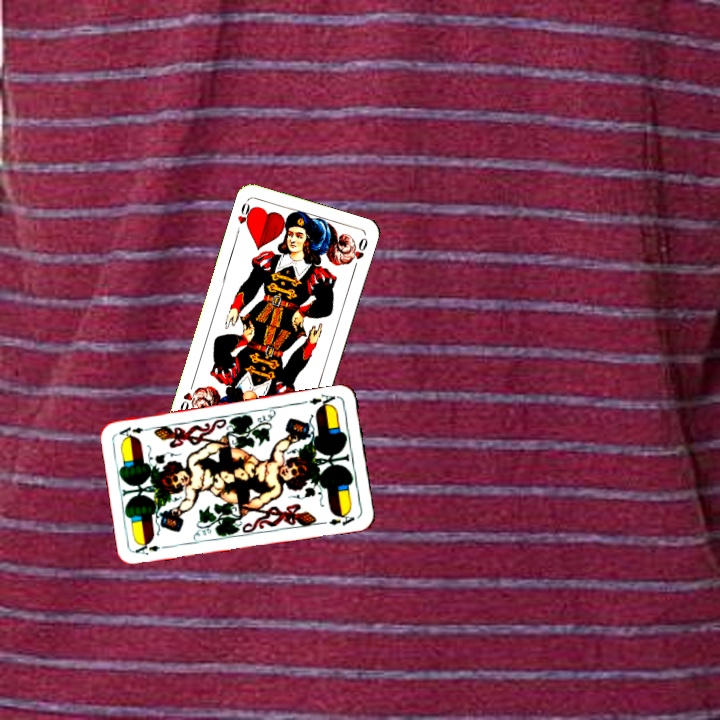EA: (131, 538, 172, 558), (305, 390, 340, 411)
HO: (234, 197, 257, 231)
